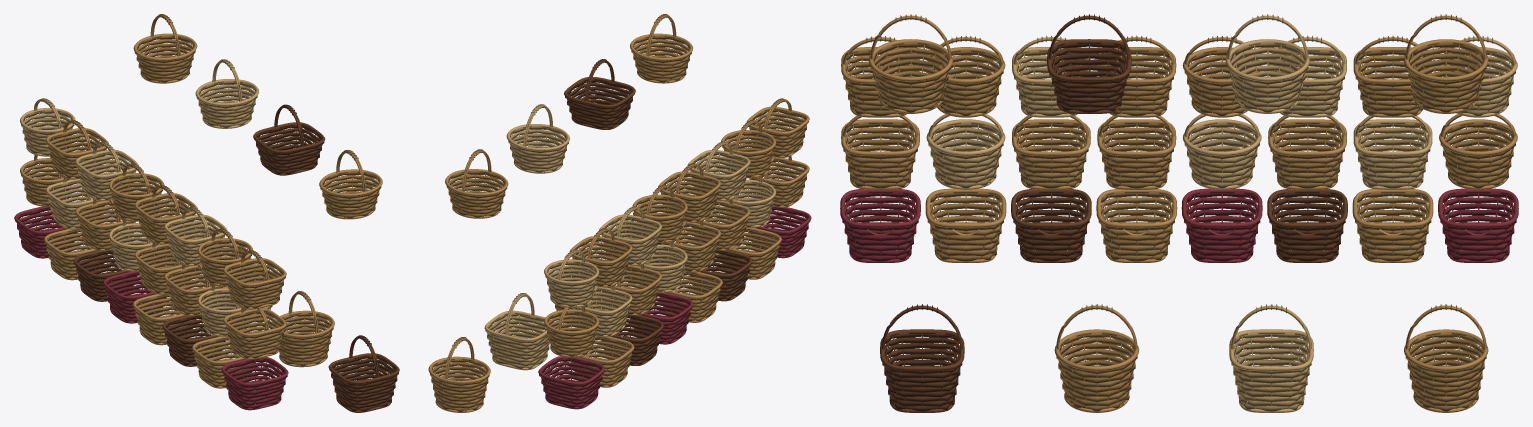
File: baskets.glb
3 renders of one model, left to right at view 1: azimuth 30°, elevation 25°; view 2: azimuth 150°, elevation 25°; view 3: azimuth 270°, elevation 25°, orthographic. The views are drawn at different scales.
Visible parts, largest first — view 1: FlowerMarketWicker; view 2: FlowerMarketWicker; view 3: FlowerMarketWicker.
Boxes of the visible parts, <box> form: FlowerMarketWicker: <box>14,14,399,412</box>; FlowerMarketWicker: <box>428,14,811,412</box>; FlowerMarketWicker: <box>840,14,1518,412</box>.
Size of the model in its own units: 1.56 by 2.16 by 3.58.
